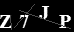7: (18, 13, 29, 29)
J: (37, 5, 50, 21)
P: (56, 14, 72, 29)
Z: (1, 13, 12, 29)
